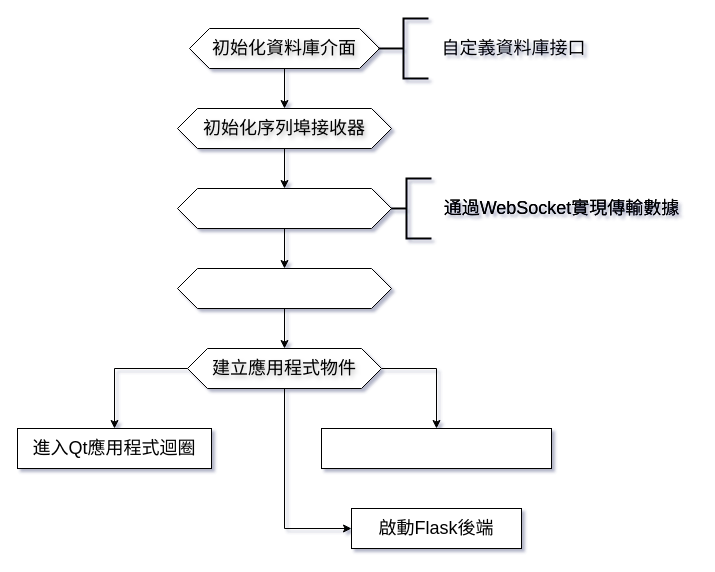
This 715x572 diagram has some shape labels left out. The centre of each missing label's shape, as x and y in pixels:
初始化Flask後端: the point at 284,208
建立並顯示Qt主視窗: the point at 284,288
開始序列埠接收器執行緒: the point at 436,448
